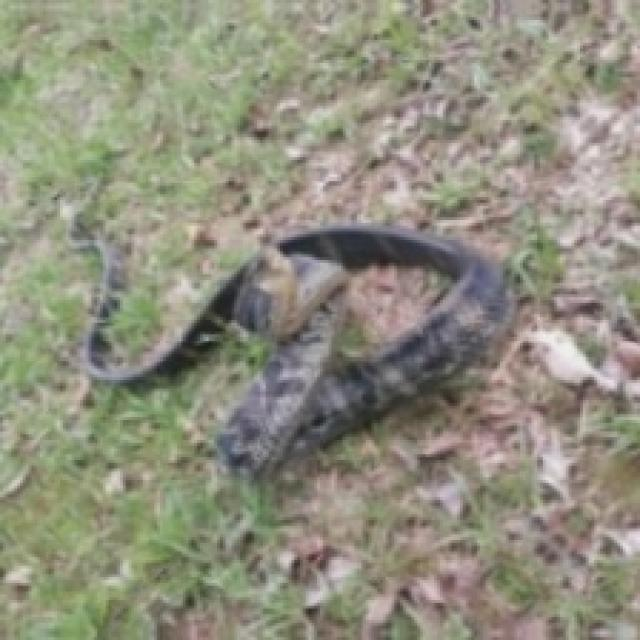dog-toothed cat snake: (76, 229, 512, 477)
